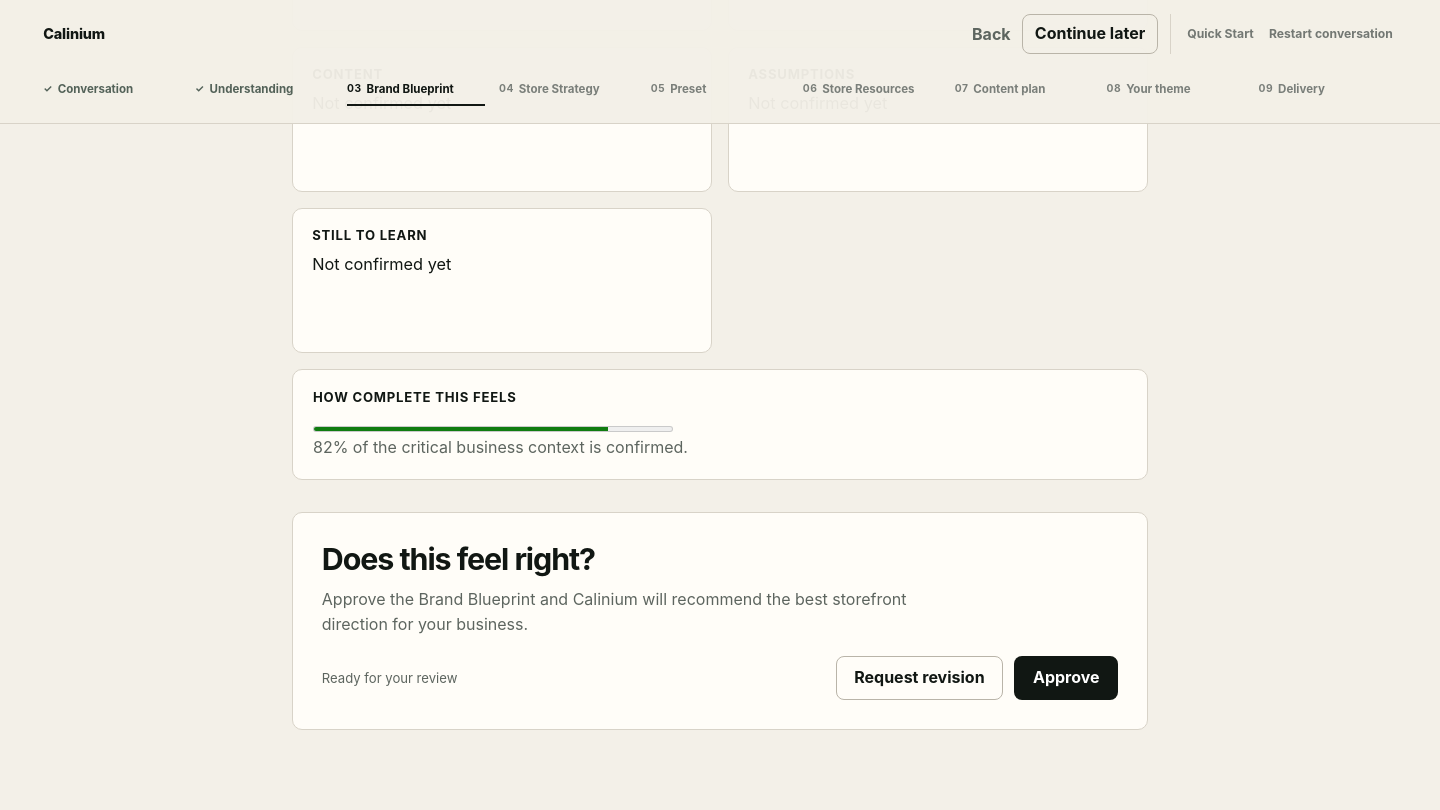
Test case: CreativeDirectorApp › presents an approval-based Brand Blueprint and Store Strategy instead of raw data
(page scrolled)
Click the button "Approve": (1066, 678) [1014, 656, 1118, 700]
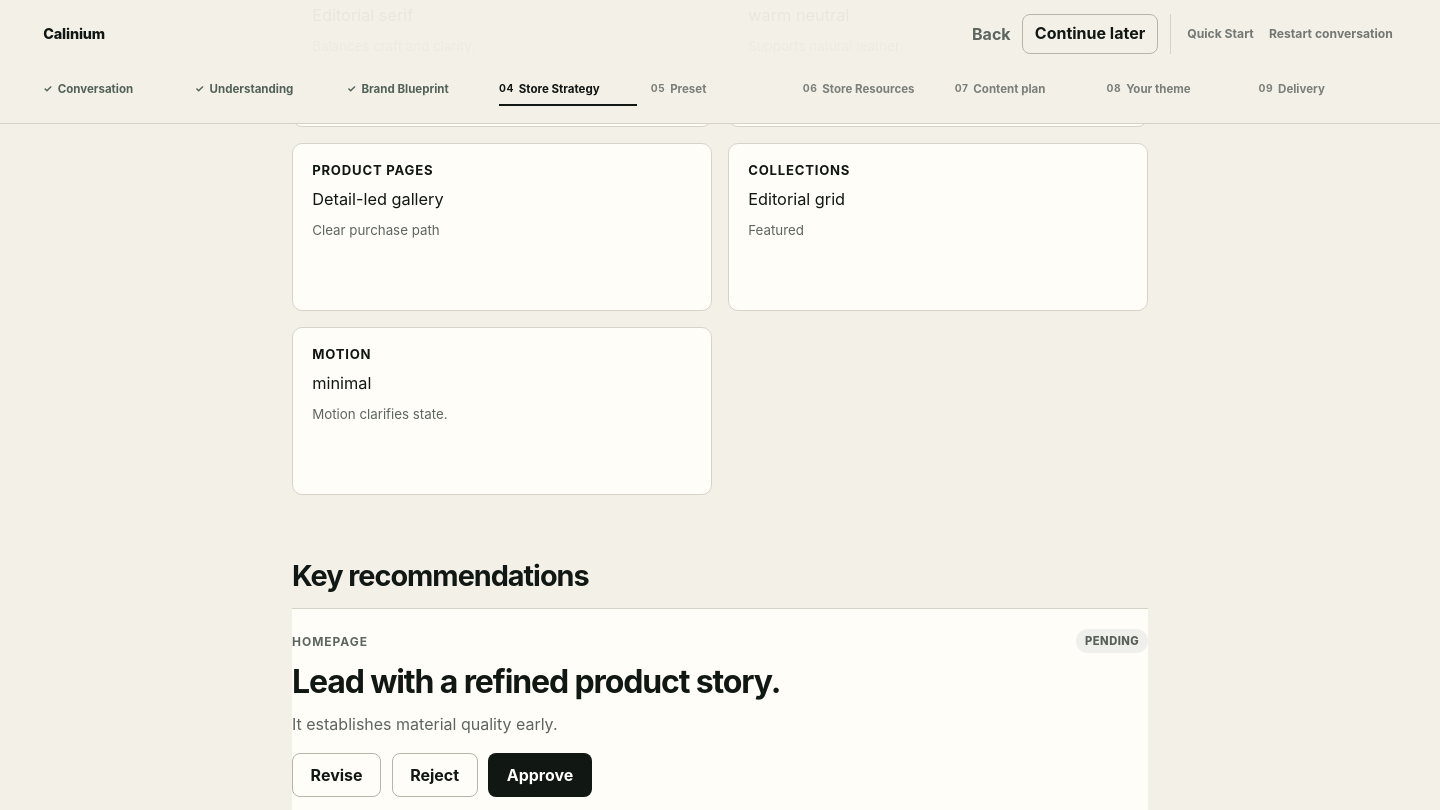
Expected: the heading "Lead with a refined product story." is shown, [292, 662, 780, 701]
